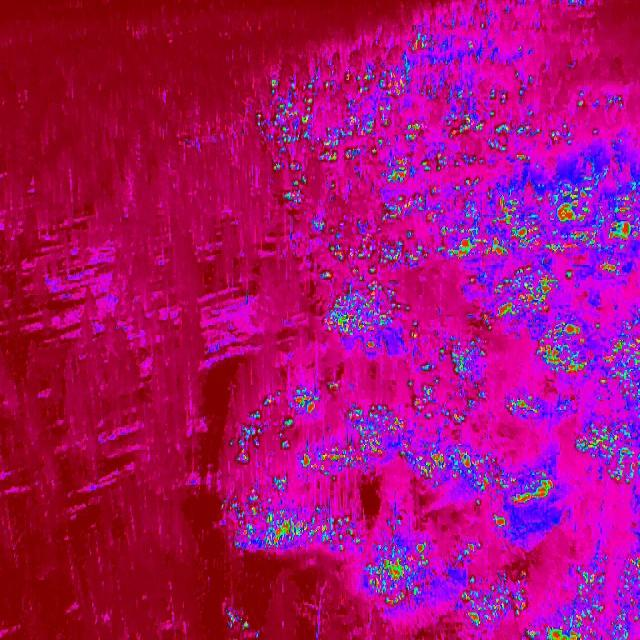fire: (256, 31, 532, 205), (298, 205, 444, 354), (234, 380, 410, 480), (404, 341, 494, 494), (216, 478, 365, 558), (531, 179, 640, 283), (442, 182, 534, 266), (534, 321, 640, 392), (479, 268, 565, 330), (572, 417, 640, 495), (363, 538, 431, 614), (455, 570, 532, 631), (610, 550, 639, 640), (510, 468, 561, 510), (526, 614, 596, 640), (500, 389, 550, 425), (575, 565, 607, 617), (222, 604, 260, 638), (541, 121, 574, 147), (454, 541, 482, 564), (489, 513, 511, 532)
